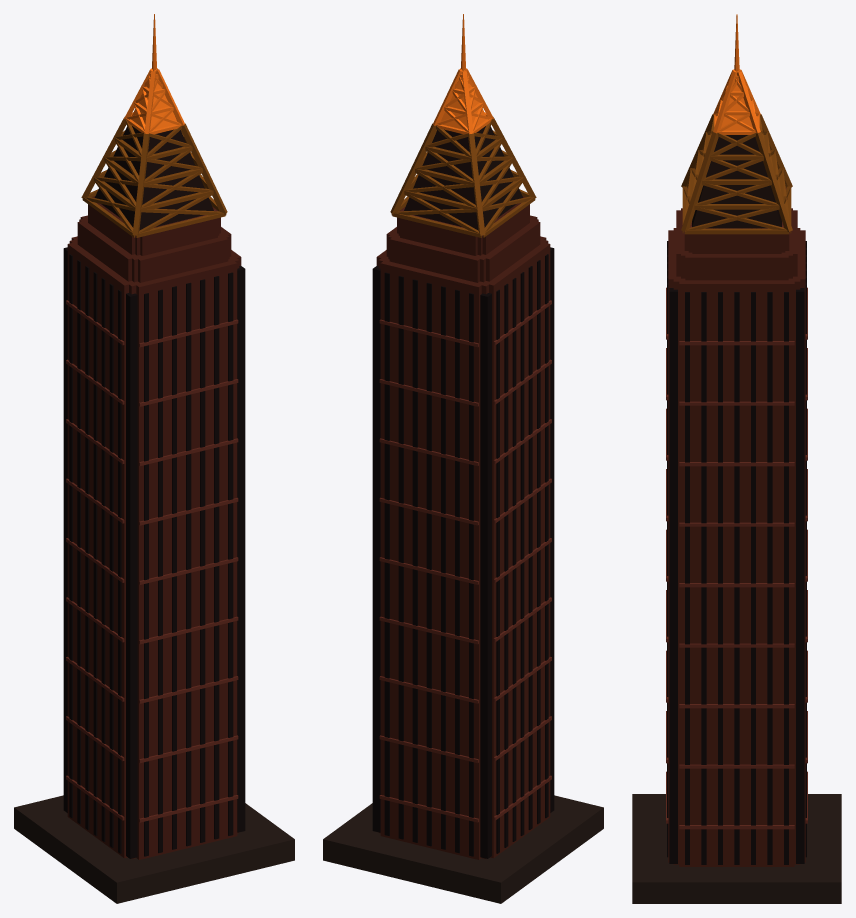
File: atl-bofa-plaza.glb
3 views of the same model, side by side, from view 1: azimuth 30°, elevation 25°; view 2: azimuth 150°, elevation 25°; view 3: azimuth 270°, elevation 25° (orthographic).
Parts seen in each view (by area): view 1: bofa-tower, bofa-crown-glow; view 2: bofa-tower, bofa-crown-glow; view 3: bofa-tower, bofa-crown-glow.
Boxes of the visible parts, left/top/right/bottom form: bofa-tower: left=14, top=117, right=294, bottom=903; bofa-crown-glow: left=124, top=14, right=184, bottom=134; bofa-tower: left=323, top=117, right=603, bottom=903; bofa-crown-glow: left=433, top=14, right=493, bottom=134; bofa-tower: left=632, top=114, right=841, bottom=903; bofa-crown-glow: left=713, top=14, right=760, bottom=134.
Size of the model in its own units: 70 by 312 by 70.
